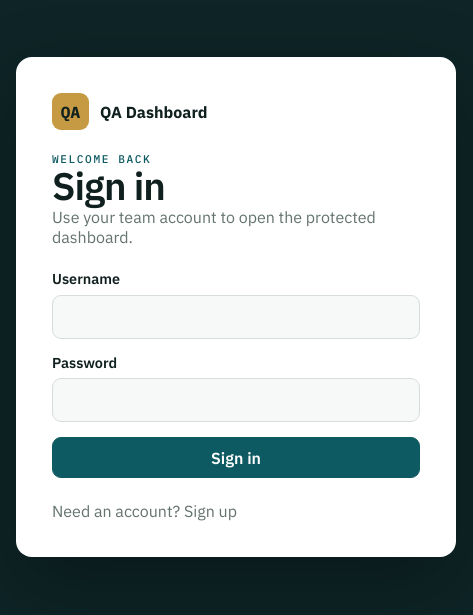
Test: Auth forms › shows validation feedback from sign-in errors
Click the button "Sign in" at (236, 458), box [52, 437, 420, 478]
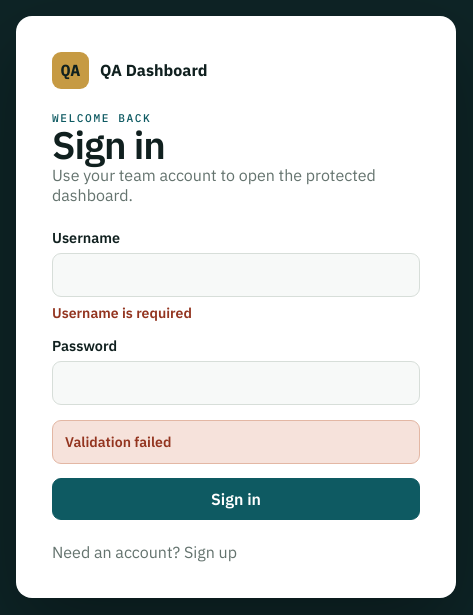
expect the text "Validation failed" is shown: met, box [52, 420, 420, 464]
expect the text "Username is required" is shown: met, box [52, 304, 192, 322]
